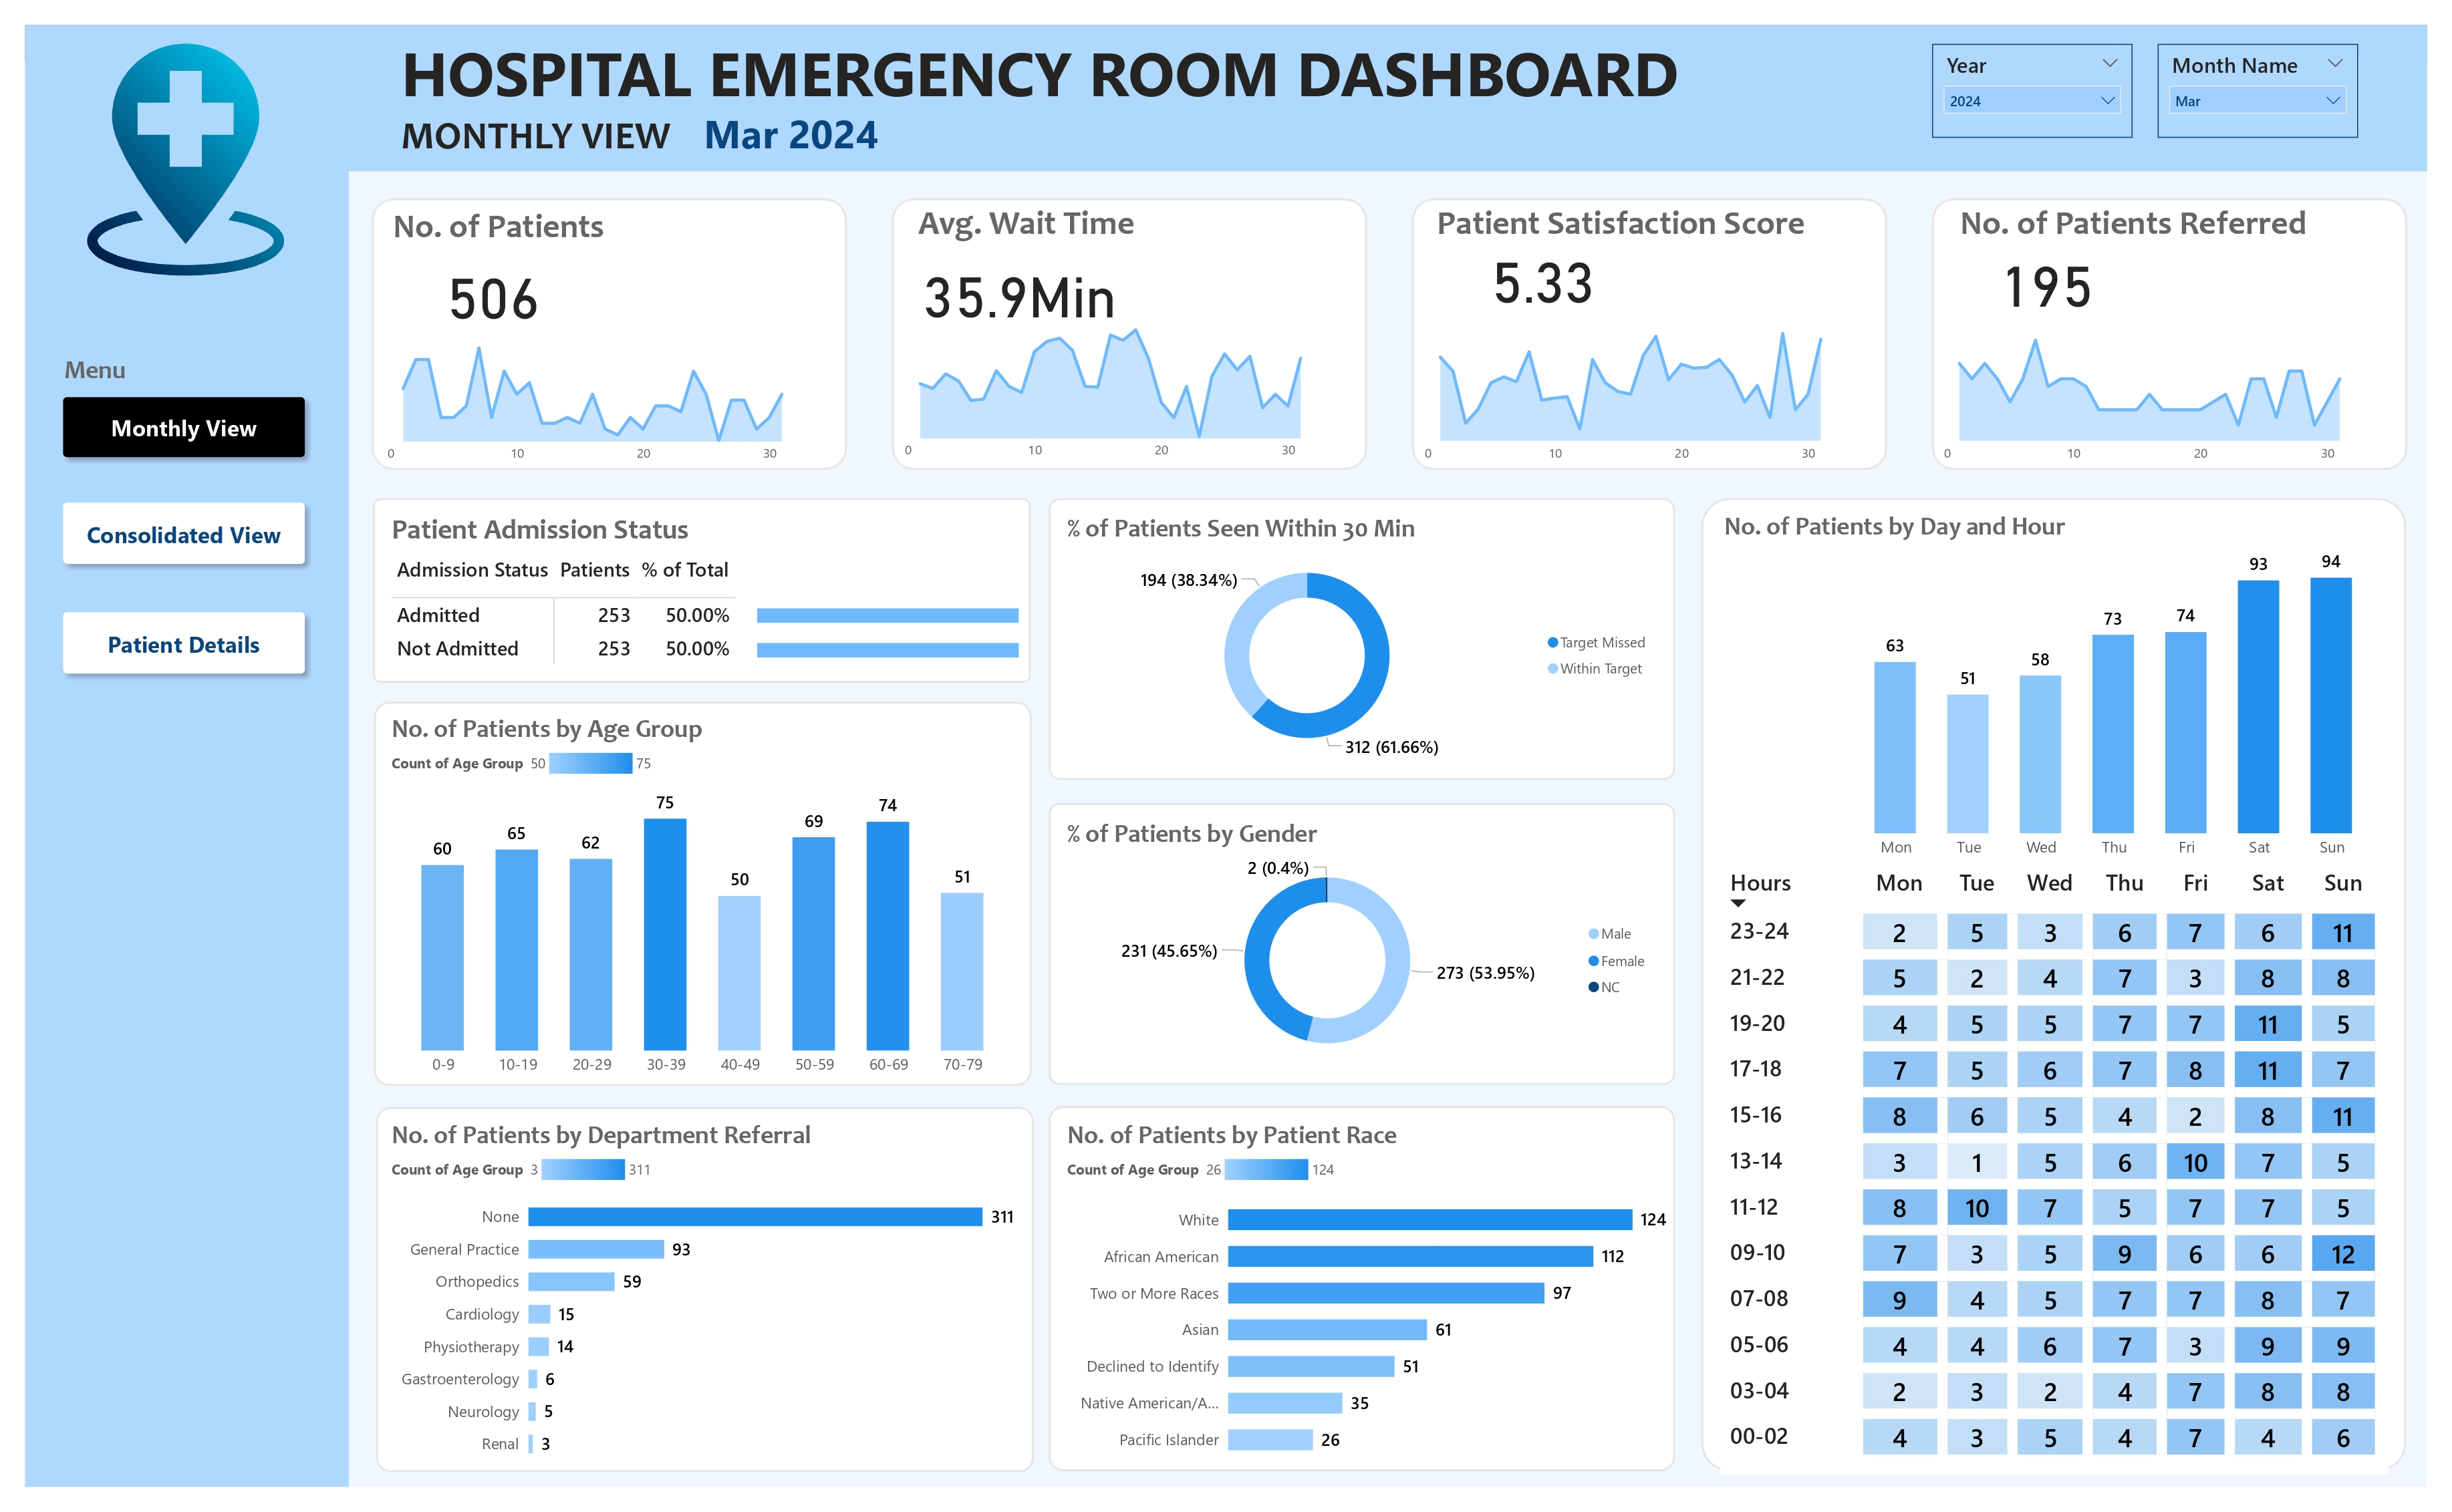

The dashboard page shown, as its layout file describes it:
{"tool":"powerbi","page":{"name":"Monthly View","canvas":[2300,1400],"ordinal":0},"visuals":[{"type":"shape","box":[332,166.2,455,260],"z":0},{"type":"shape","box":[0,0,310,1400],"z":1000},{"type":"shape","box":[310,0,1990,140],"z":2000},{"type":"textbox","box":[355,0,1250,140],"z":3000},{"type":"textbox","box":[355,76.7,281.7,63.3],"z":4000},{"type":"cardVisual","fields":{"Data":["Hospital ER_Data.No. of Patients"]},"box":[335,210,225,100],"z":5000},{"type":"slicer","fields":{"Values":["Date Table.Year"]},"box":[1826,18,192,90],"z":6000},{"type":"slicer","fields":{"Values":["Date Table.Month Name"]},"box":[2042,18,192,90],"z":7000},{"type":"textbox","box":[346.7,168.3,441.7,50],"z":8000},{"type":"areaChart","fields":{"Y":["Hospital ER_Data.No. of Patients"],"Category":["Date Table.Date.Variation.Date Hierarchy.Day"]},"box":[335,272.5,452.5,155],"z":9000},{"type":"cardVisual","fields":{"Data":["Min(Date Table.Month & Year)"]},"box":[615.7,62.9,235.7,77.1],"z":10000},{"type":"shape","box":[830,166,455,260],"z":11000},{"type":"cardVisual","fields":{"Data":["Hospital ER_Data.Avg. Wait Time"]},"box":[830,207.5,245,102.5],"z":12000},{"type":"textbox","box":[850,165,430,53.3],"z":13000},{"type":"areaChart","fields":{"Y":["Avg(Hospital ER_Data.Patient Waittime)"],"Category":["Date Table.Date.Variation.Date Hierarchy.Day"]},"box":[830,272.5,455,152.5],"z":14000},{"type":"shape","box":[1328,166,455,260],"z":15000},{"type":"textbox","box":[1346.7,165,431.7,53.3],"z":16000},{"type":"shape","box":[1826,166,455,260],"z":17000},{"type":"cardVisual","fields":{"Data":["Hospital ER_Data.No. Of Patients Referred"]},"box":[1825,187.5,222.5,122.5],"z":18000},{"type":"textbox","box":[1848.3,165,435,53.3],"z":19000},{"type":"areaChart","fields":{"Y":["Hospital ER_Data.No.of Patients Referred"],"Category":["Date Table.Date.Variation.Date Hierarchy.Day"]},"box":[1825,272.5,455,155],"z":20000},{"type":"cardVisual","fields":{"Data":["Hospital ER_Data.Avg. Satisfaction Score"]},"box":[1327.5,192.5,250,105],"z":21000},{"type":"areaChart","fields":{"Y":["Hospital ER_Data.Avg. Satisfaction Score"],"Category":["Date Table.Date.Variation.Date Hierarchy.Day"]},"box":[1327.5,272.5,455,155],"z":22000},{"type":"shape","box":[333.3,453.3,630,177],"z":23000},{"type":"pivotTable","title":"Patient Admission Status","fields":{"Rows":["Hospital ER_Data.Admission Status"],"Values":["Hospital ER_Data.No. of Patients1","Hospital ER_Data.No. of Patients"]},"box":[346,467,349,163],"z":24000},{"type":"barChart","fields":{"Category":["Hospital ER_Data.Admission Status"],"Y":["Hospital ER_Data.No. of Patients"]},"box":[695.7,528.6,307.1,101.4],"z":25000},{"type":"shape","box":[334,648,630,368],"z":26000},{"type":"clusteredColumnChart","fields":{"Category":["Hospital ER_Data.Age Group"],"Y":["Hospital ER_Data.No. of Patients"]},"box":[346.2,658.8,606.2,357.5],"z":27000},{"type":"shape","box":[336,1036,630,350],"z":28000},{"type":"clusteredBarChart","fields":{"Category":["Hospital ER_Data.Department Referral"],"Y":["Hospital ER_Data.No. of Patients"]},"box":[346.2,1047.5,606.2,338.8],"z":29000},{"type":"shape","box":[980,452.5,600,270],"z":30000},{"type":"donutChart","title":"% of Patients Seen Within 30 Min","fields":{"Y":["Hospital ER_Data.No. of Patients"],"Category":["Hospital ER_Data.Waittime Status"]},"box":[992.9,467.1,572.9,242.9],"z":31000},{"type":"shape","box":[980,744.5,600,270],"z":32000},{"type":"donutChart","title":"% of Patients by Gender","fields":{"Y":["Hospital ER_Data.No. of Patients"],"Category":["Hospital ER_Data.Patient Gender"]},"box":[992.9,759.1,572.9,242.9],"z":33000},{"type":"shape","box":[980,1035,600,350],"z":34000},{"type":"clusteredBarChart","fields":{"Y":["Hospital ER_Data.No. of Patients"],"Category":["Hospital ER_Data.Patient Race"]},"box":[992.5,1047.5,585,337.5],"z":35000},{"type":"shape","box":[1605,452.5,675,932.5],"z":36000},{"type":"pivotTable","fields":{"Rows":["Hospital ER_Data.Waittime Interval"],"Columns":["Date Table.Day Name"],"Values":["Hospital ER_Data.No. of Patients"]},"box":[1622.5,800,640,587.5],"z":37000},{"type":"clusteredColumnChart","title":"No. of Patients by Day and Hour","fields":{"Y":["Hospital ER_Data.No. of Patients"],"Category":["Date Table.Day Name"]},"box":[1738.3,486.7,525,321.7],"z":38000},{"type":"textbox","box":[1621.7,460,658.3,51.7],"z":39000},{"type":"image","box":[42,16.7,223.3,223.3],"z":40000},{"type":"actionButton","box":[26.7,346.7,250,76.7],"z":41000},{"type":"actionButton","box":[26.7,448.3,250,76.7],"z":42000},{"type":"actionButton","box":[26.7,553.3,250,76.7],"z":43000},{"type":"textbox","box":[26.7,310,163.3,40],"z":44000}]}

Visuals, with their boxes on the page's 2300x1400 design canvas (x1, y1, x2, y2). These are canvas units, not pixel positions in the 2452x1512 screenshot, which may show the page scaled, cropped or inside an application window:
shape: crop(332, 166, 787, 426)
shape: crop(0, 0, 310, 1400)
shape: crop(310, 0, 2300, 140)
textbox: crop(355, 0, 1605, 140)
textbox: crop(355, 77, 637, 140)
cardVisual - Hospital ER_Data.No. of Patients: crop(335, 210, 560, 310)
slicer - Date Table.Year: crop(1826, 18, 2018, 108)
slicer - Date Table.Month Name: crop(2042, 18, 2234, 108)
textbox: crop(347, 168, 788, 218)
areaChart - Hospital ER_Data.No. of Patients x Date Table.Date.Variation.Date Hierarchy.Day: crop(335, 272, 788, 428)
cardVisual - Min(Date Table.Month & Year): crop(616, 63, 851, 140)
shape: crop(830, 166, 1285, 426)
cardVisual - Hospital ER_Data.Avg. Wait Time: crop(830, 208, 1075, 310)
textbox: crop(850, 165, 1280, 218)
areaChart - Avg(Hospital ER_Data.Patient Waittime) x Date Table.Date.Variation.Date Hierarchy.Day: crop(830, 272, 1285, 425)
shape: crop(1328, 166, 1783, 426)
textbox: crop(1347, 165, 1778, 218)
shape: crop(1826, 166, 2281, 426)
cardVisual - Hospital ER_Data.No. Of Patients Referred: crop(1825, 188, 2048, 310)
textbox: crop(1848, 165, 2283, 218)
areaChart - Hospital ER_Data.No.of Patients Referred x Date Table.Date.Variation.Date Hierarchy.Day: crop(1825, 272, 2280, 428)
cardVisual - Hospital ER_Data.Avg. Satisfaction Score: crop(1328, 192, 1578, 298)
areaChart - Hospital ER_Data.Avg. Satisfaction Score x Date Table.Date.Variation.Date Hierarchy.Day: crop(1328, 272, 1782, 428)
shape: crop(333, 453, 963, 630)
"Patient Admission Status" pivotTable: crop(346, 467, 695, 630)
barChart - Hospital ER_Data.Admission Status x Hospital ER_Data.No. of Patients: crop(696, 529, 1003, 630)
shape: crop(334, 648, 964, 1016)
clusteredColumnChart - Hospital ER_Data.Age Group x Hospital ER_Data.No. of Patients: crop(346, 659, 952, 1016)
shape: crop(336, 1036, 966, 1386)
clusteredBarChart - Hospital ER_Data.Department Referral x Hospital ER_Data.No. of Patients: crop(346, 1048, 952, 1386)
shape: crop(980, 452, 1580, 722)
"% of Patients Seen Within 30 Min" donutChart: crop(993, 467, 1566, 710)
shape: crop(980, 744, 1580, 1014)
"% of Patients by Gender" donutChart: crop(993, 759, 1566, 1002)
shape: crop(980, 1035, 1580, 1385)
clusteredBarChart - Hospital ER_Data.No. of Patients x Hospital ER_Data.Patient Race: crop(992, 1048, 1578, 1385)
shape: crop(1605, 452, 2280, 1385)
pivotTable - Hospital ER_Data.Waittime Interval x Date Table.Day Name: crop(1622, 800, 2262, 1388)
"No. of Patients by Day and Hour" clusteredColumnChart: crop(1738, 487, 2263, 808)
textbox: crop(1622, 460, 2280, 512)
image: crop(42, 17, 265, 240)
actionButton: crop(27, 347, 277, 423)
actionButton: crop(27, 448, 277, 525)
actionButton: crop(27, 553, 277, 630)
textbox: crop(27, 310, 190, 350)
